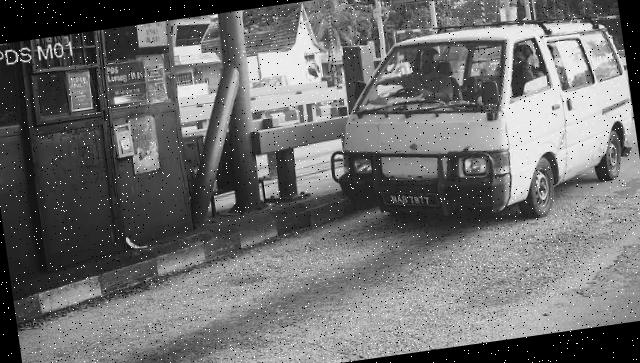License_Plate: (382, 183, 444, 218)
van: (315, 7, 640, 246)
